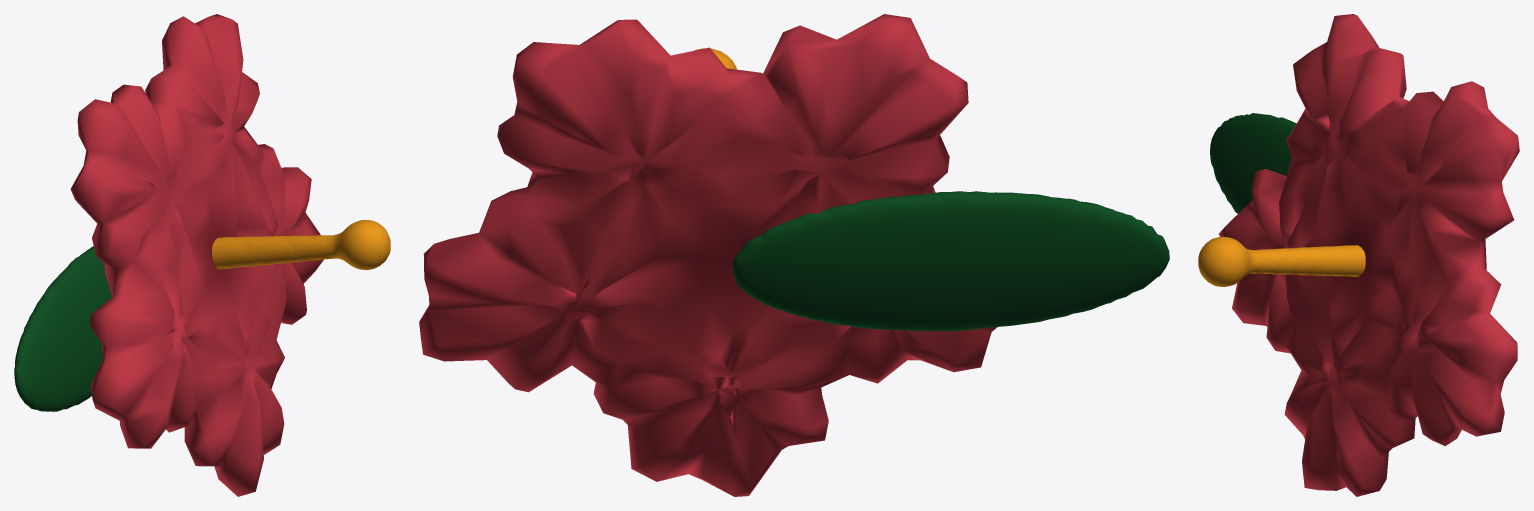
The model's file is hoadambut.glb.
3 views of the same model, side by side, from view 1: azimuth 30°, elevation 25°; view 2: azimuth 150°, elevation 25°; view 3: azimuth 270°, elevation 25° (orthographic). The views are drawn at different scales.
Parts seen in each view (by area): view 1: Hoa, La, Nhuy; view 2: Hoa, La; view 3: Hoa, La, Nhuy.
Part boxes in pixels (left/top/right/bottom): Hoa: left=70, top=14, right=323, bottom=496; La: left=14, top=246, right=111, bottom=411; Nhuy: left=212, top=220, right=390, bottom=270; Hoa: left=419, top=14, right=997, bottom=496; La: left=732, top=191, right=1169, bottom=331; Hoa: left=1219, top=14, right=1519, bottom=496; La: left=1210, top=113, right=1296, bottom=213; Nhuy: left=1198, top=236, right=1365, bottom=286.
Size of the model in its own units: 0.0893 by 0.0806 by 0.0559.
